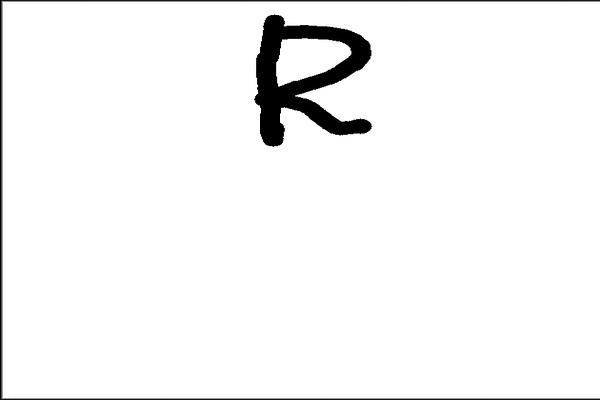R: (249, 6, 384, 149)
